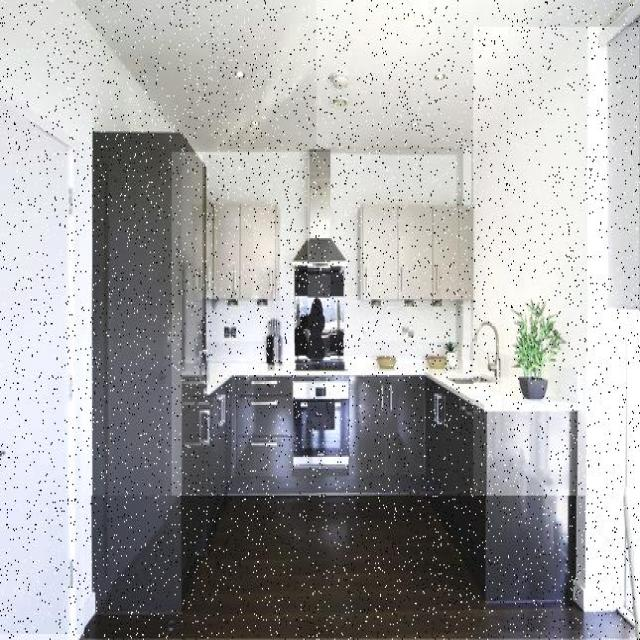Wall: (0, 0, 172, 634), (474, 28, 640, 612), (85, 496, 634, 639), (317, 0, 627, 152), (78, 0, 360, 152), (331, 148, 473, 360), (203, 155, 308, 363), (414, 0, 518, 45), (625, 315, 639, 637)
